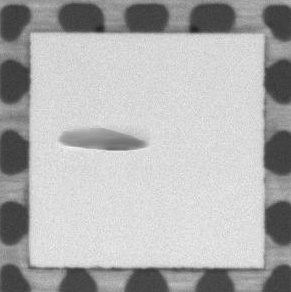DIE_INK: (57, 123, 148, 150)
